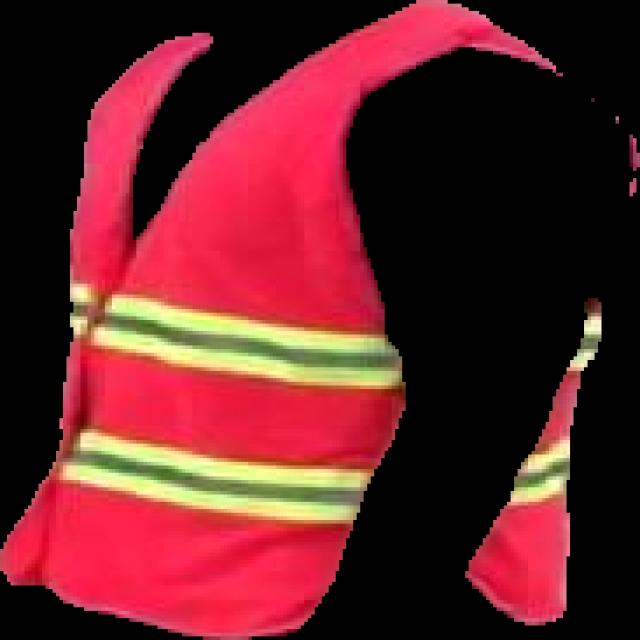Colete: (0, 0, 563, 639)
